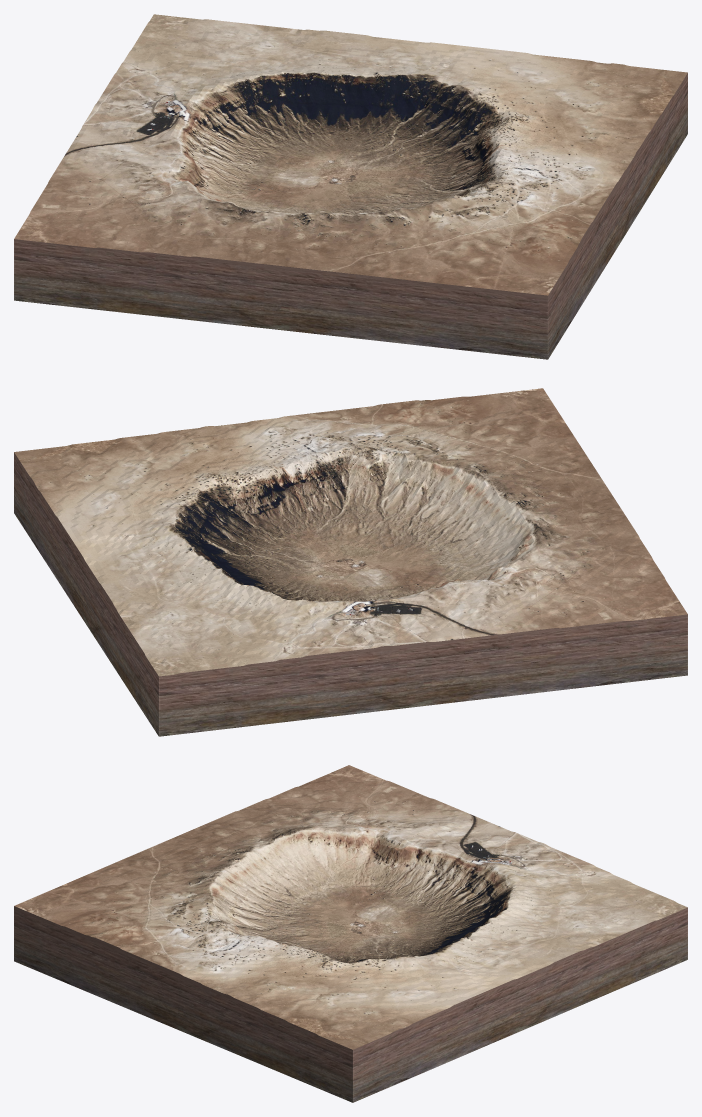
File: crater.glb
3 views of the same model, one above another, from view 1: azimuth 30°, elevation 25°; view 2: azimuth 150°, elevation 25°; view 3: azimuth 270°, elevation 25° (orthographic). The views are drawn at different scales.
Size of the model in its own units: 22.4 by 2.41 by 22.4.
Materials: 4 (3 with a texture image).
